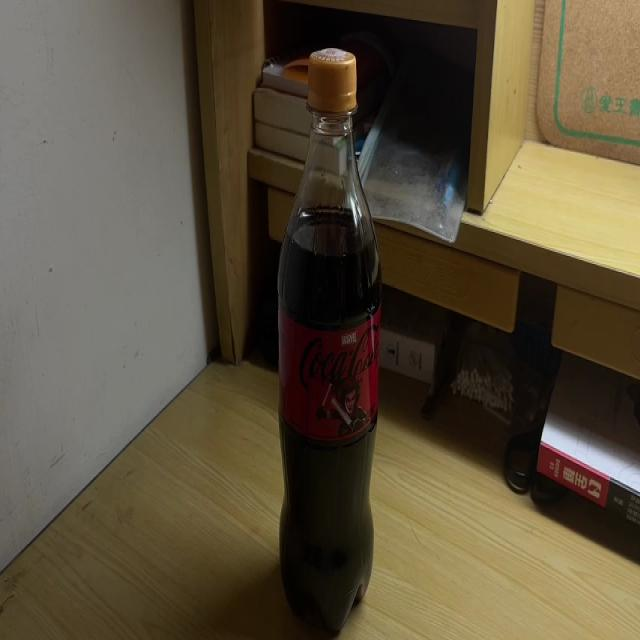Coca-Cola: (279, 46, 379, 637)
